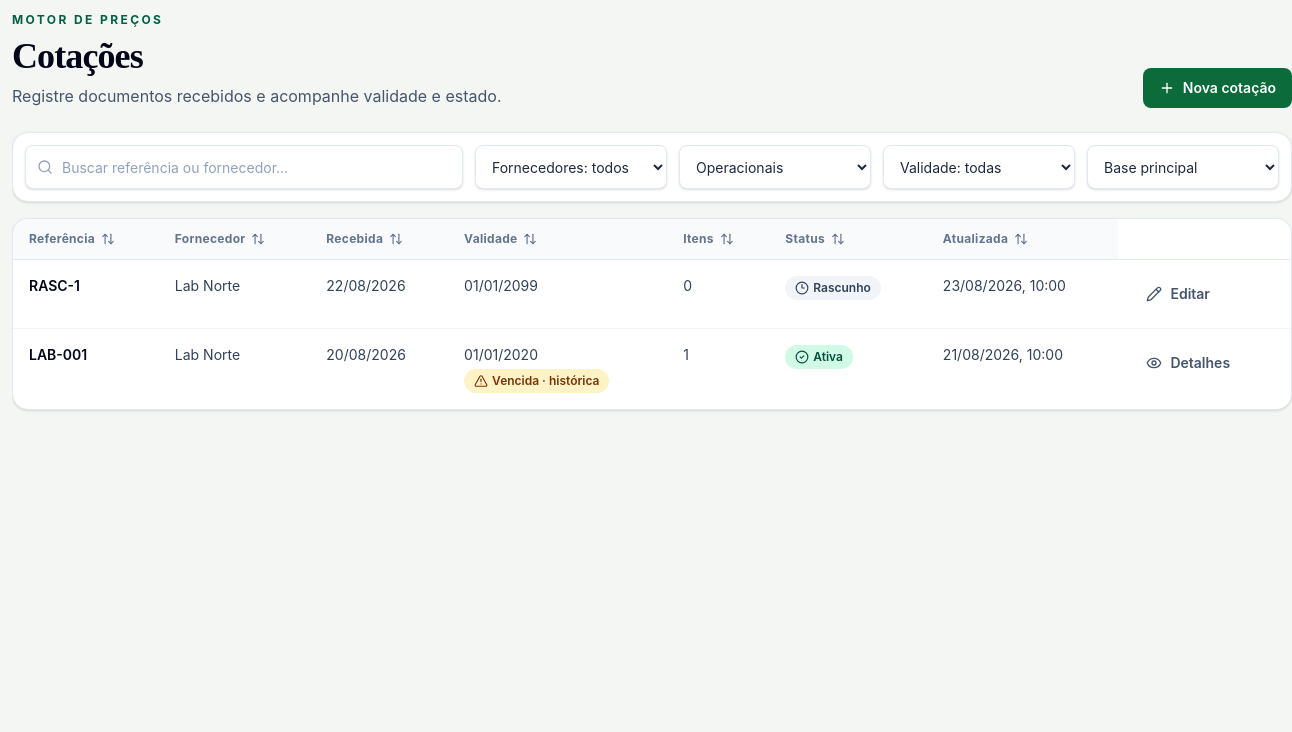
Test: QuotationsPage › exibe vazio filtrado e limpa os filtros
The image size is (1292, 732).
In the field with placeholder "Buscar referência ou fornecedor...": [244, 167] box [25,145,463,189], type "inexistente"
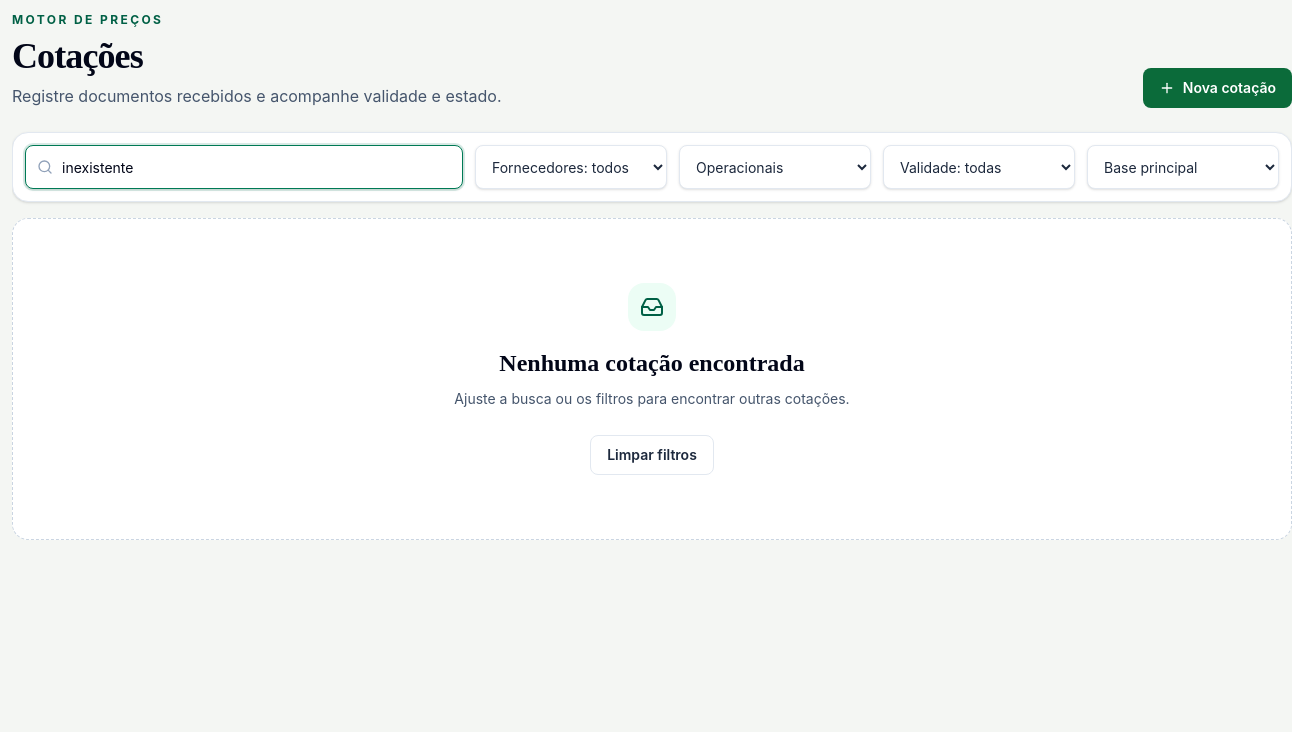
Expected: the heading "Nenhuma cotação encontrada" is shown, [499,350,805,376]
Click the button "Limpar filtros": [652, 455] box [590,435,714,475]
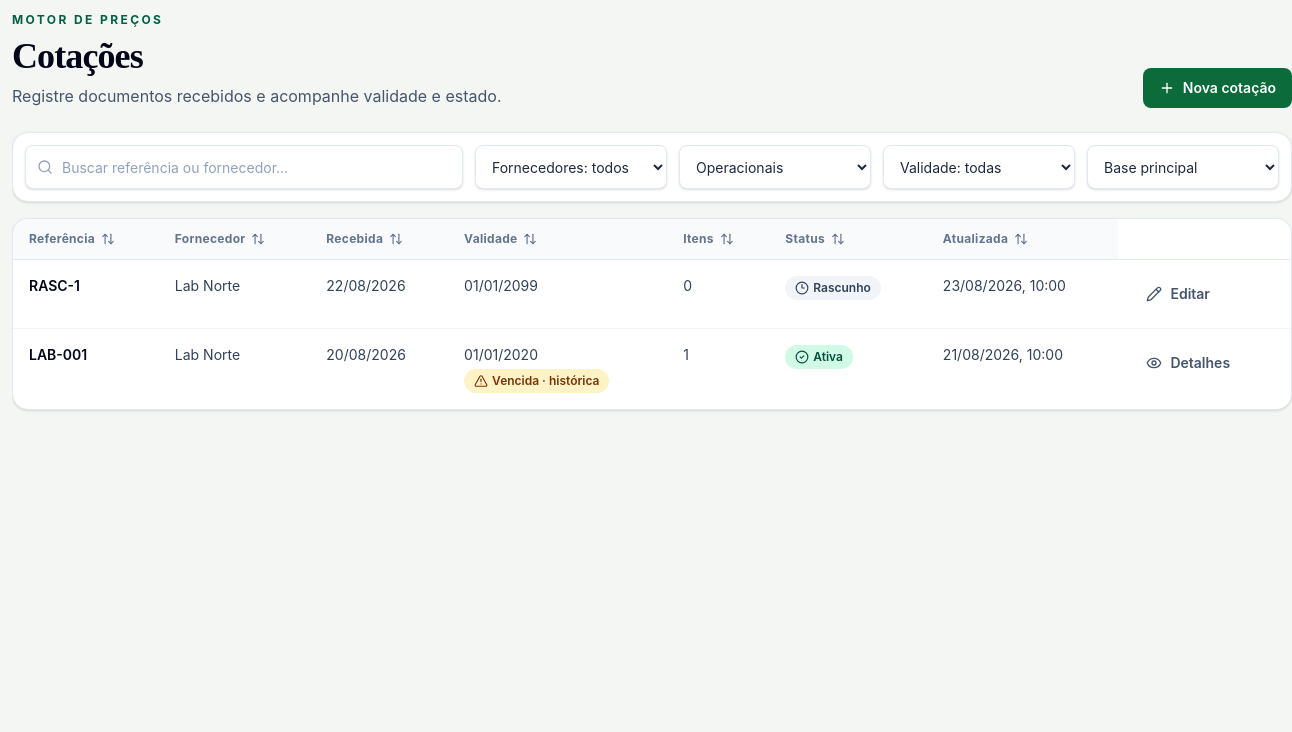
Expected: the table is shown, [13,219,1291,409]
